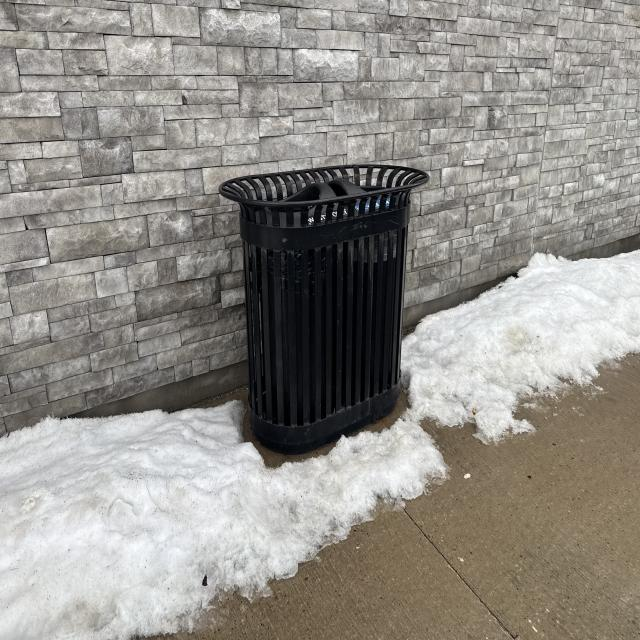Dustbin: (218, 166, 432, 454)
